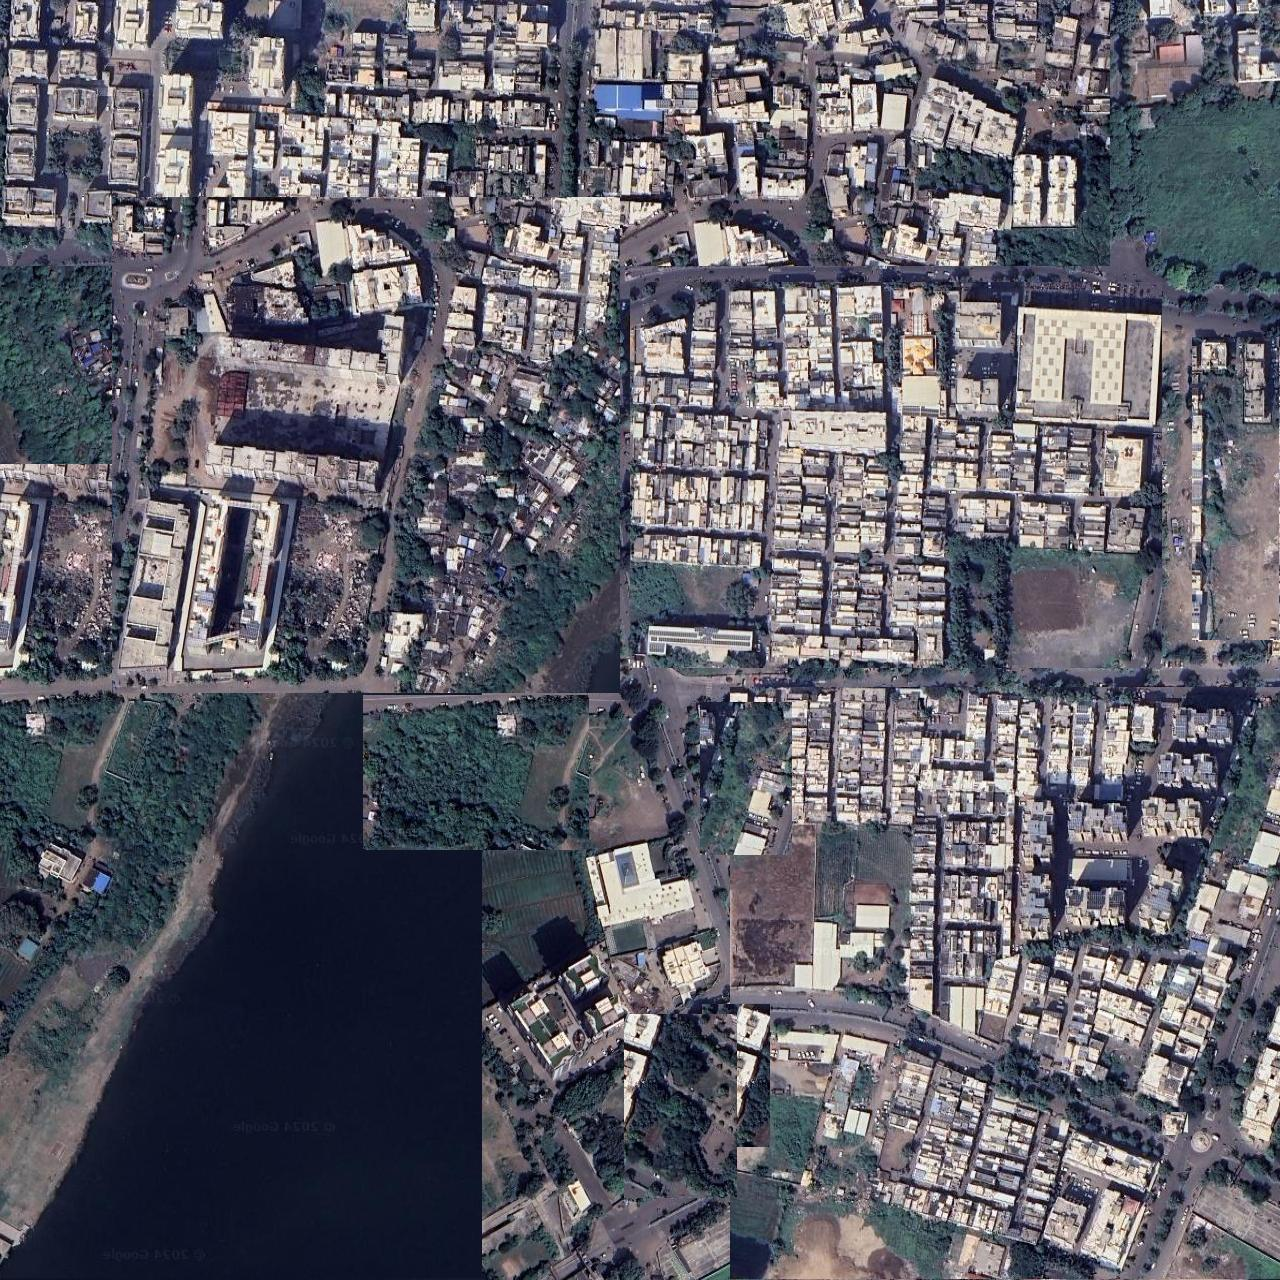greenery: (0, 170, 384, 935), (305, 938, 530, 1230), (1105, 86, 1280, 290), (363, 695, 588, 850), (651, 543, 840, 678), (1160, 422, 1262, 661), (625, 1015, 737, 1198), (700, 703, 792, 855), (1095, 1212, 1238, 1280), (1190, 1095, 1245, 1175), (1227, 1170, 1280, 1245), (552, 1070, 613, 1121), (1163, 1112, 1187, 1135)
house: (730, 687, 1280, 1279), (0, 0, 1110, 266), (113, 197, 620, 693), (627, 280, 1160, 666), (629, 282, 1162, 667), (1190, 335, 1280, 648), (1192, 338, 1280, 640), (1128, 0, 1280, 105), (702, 1005, 770, 1148), (591, 845, 688, 921), (662, 942, 710, 995)
water: (0, 465, 482, 1278)
